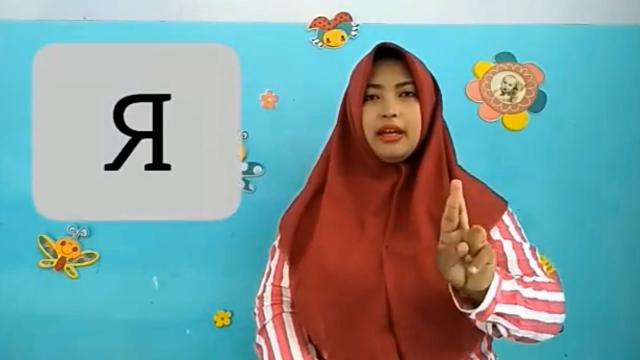R: (432, 176, 498, 294)
